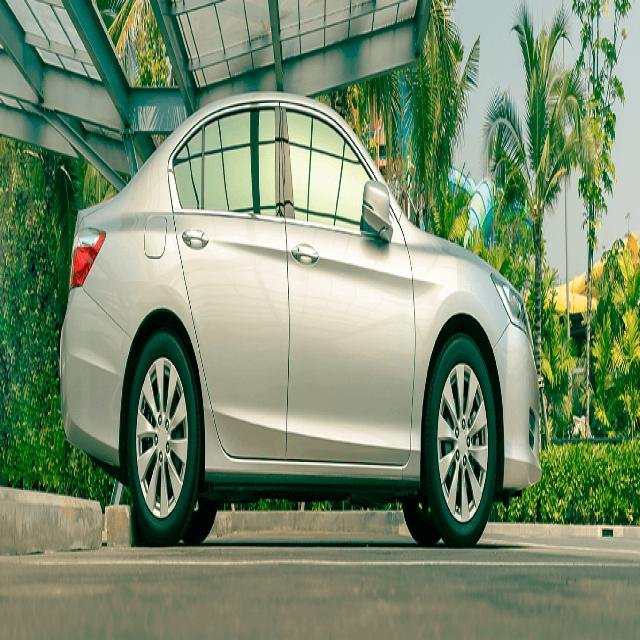car: (59, 60, 548, 559)
